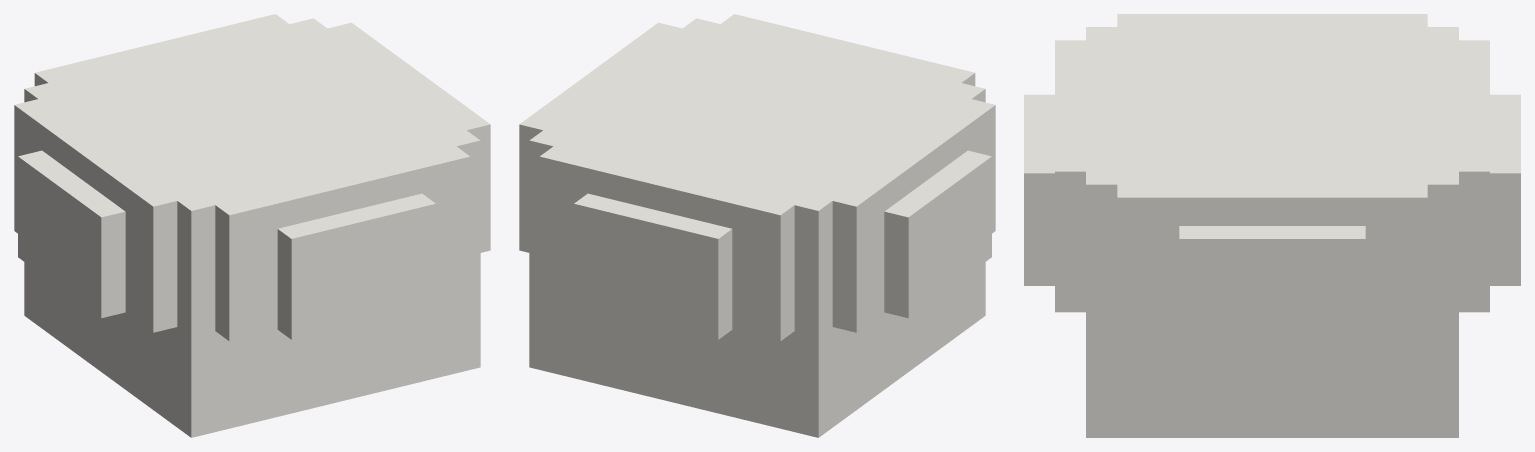
Rendered from chef.glb.
3 renders of one model, left to right at view 1: azimuth 30°, elevation 25°; view 2: azimuth 150°, elevation 25°; view 3: azimuth 270°, elevation 25°, orthographic. The views are drawn at different scales.
Parts seen in each view (by area): view 1: chef; view 2: chef; view 3: chef.
Boxes of the visible parts, x1,y1,x2,y2 form: chef: (14, 14, 490, 437); chef: (519, 14, 995, 437); chef: (1024, 14, 1520, 437).
Bounding box in the file's own units: 0.8 × 0.45 × 0.8.
Materials: 1 (1 with a texture image).
